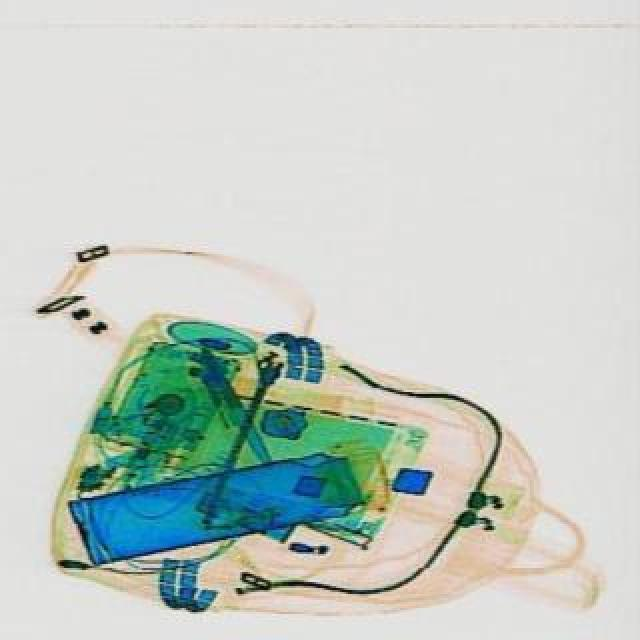knife: (198, 346, 284, 472)
